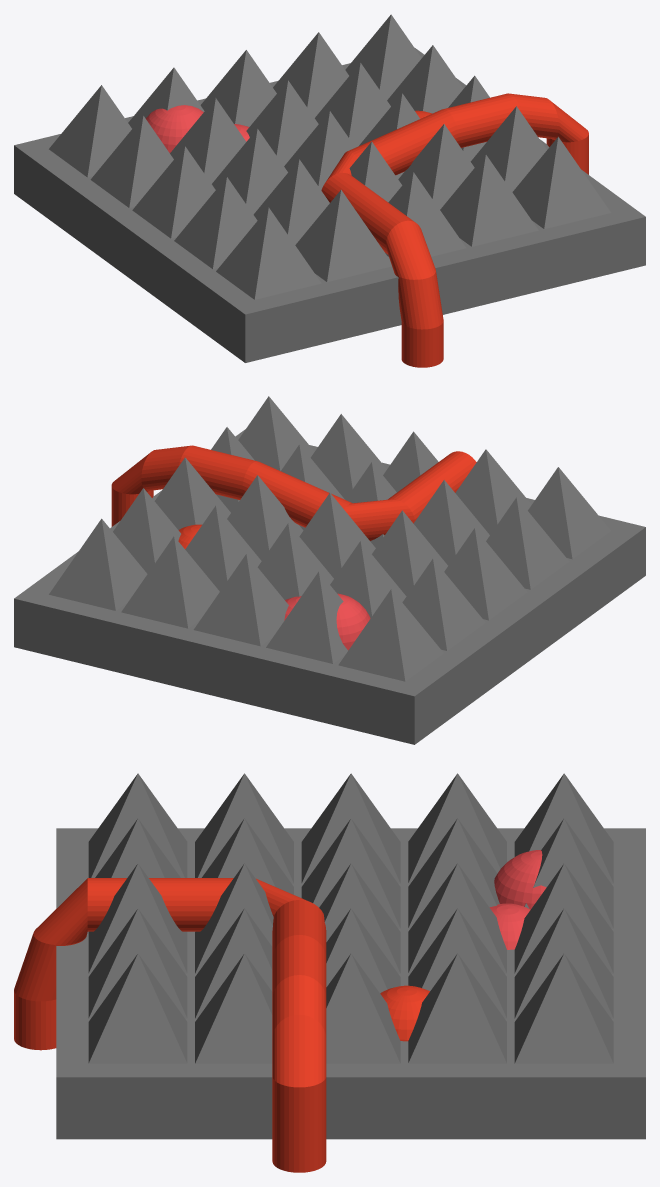
Rendered from spikesOneObst.fbx.
3 renders of one model, top to bottom at view 1: azimuth 30°, elevation 25°; view 2: azimuth 150°, elevation 25°; view 3: azimuth 270°, elevation 25°, orthographic. The views are drawn at different scales.
Visible parts, largest first — view 1: SpikesWithFlesh; view 2: SpikesWithFlesh; view 3: SpikesWithFlesh.
Boxes of the visible parts, box(x1,y1,x2,y2) form: SpikesWithFlesh: box(14, 14, 645, 367); SpikesWithFlesh: box(14, 396, 645, 744); SpikesWithFlesh: box(14, 773, 645, 1172).
Size of the model in its own units: 425 by 141 by 418.
